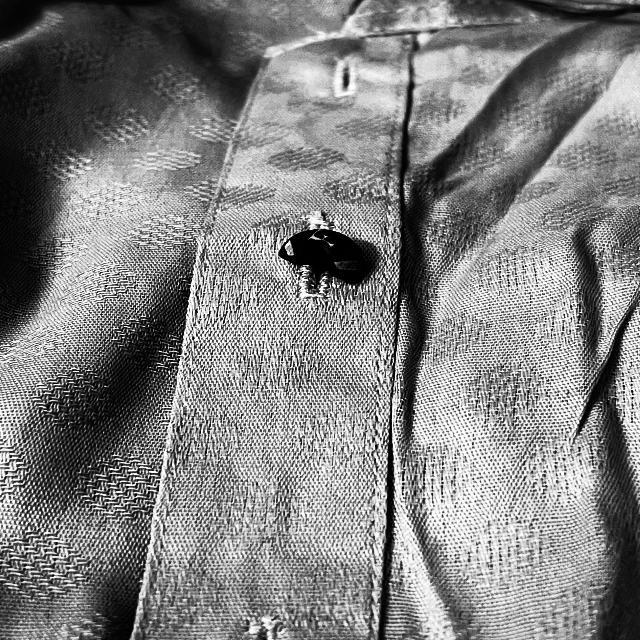Broken_button: (271, 221, 372, 296)
